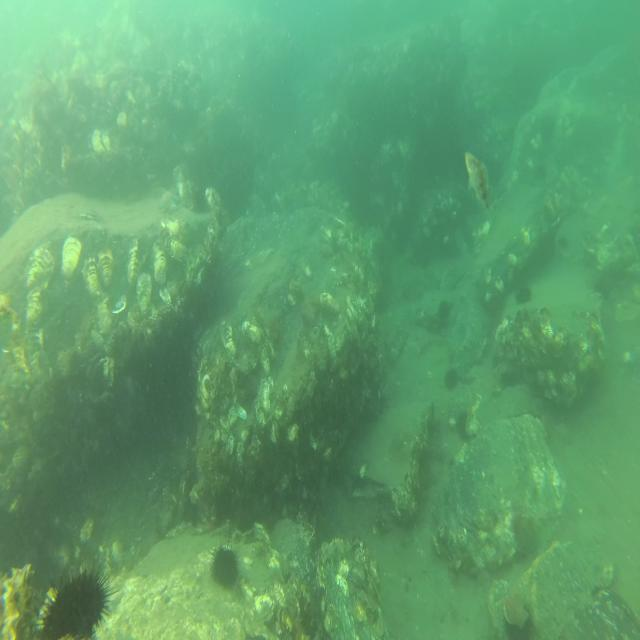echinus: (41, 563, 118, 640), (209, 544, 242, 591), (514, 286, 535, 307), (444, 367, 460, 393), (437, 299, 452, 317)
holothurian: (319, 535, 356, 566)
